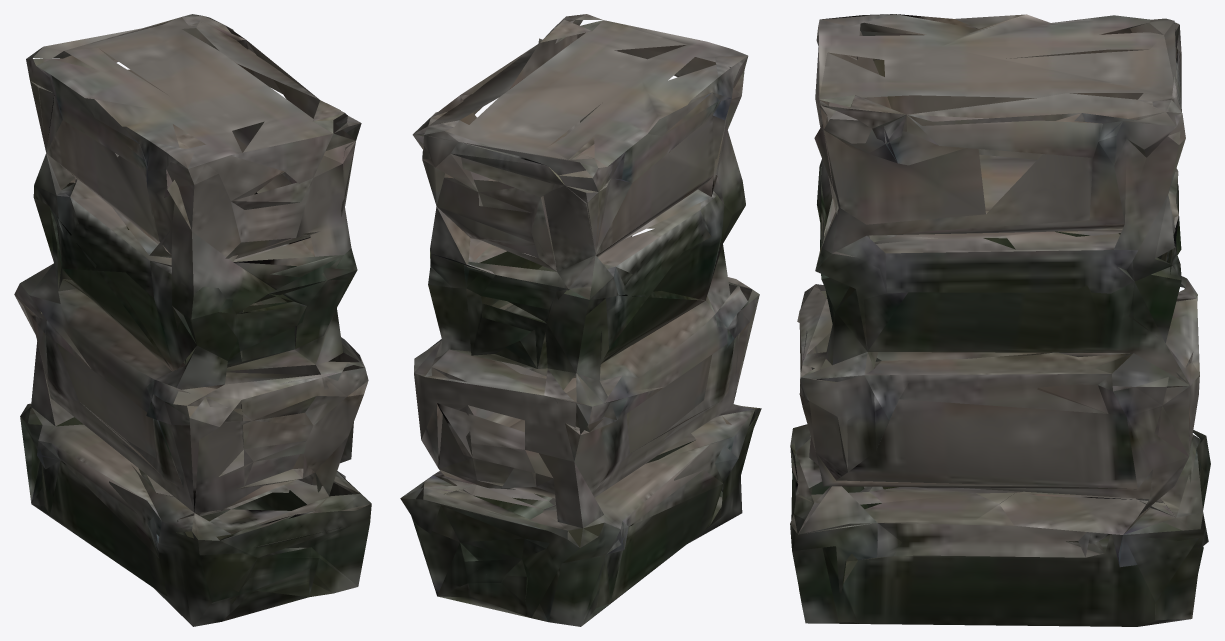
The model's file is crates_1599852408_lod0.glb.
The picture shows the model from 3 angles, left to right: view 1: azimuth 30°, elevation 25°; view 2: azimuth 150°, elevation 25°; view 3: azimuth 270°, elevation 25°; orthographic projection. The views are drawn at different scales.
Bounding box in the file's own units: 0.8772 × 1.98 × 1.44.
Materials: 1 (1 with a texture image).
